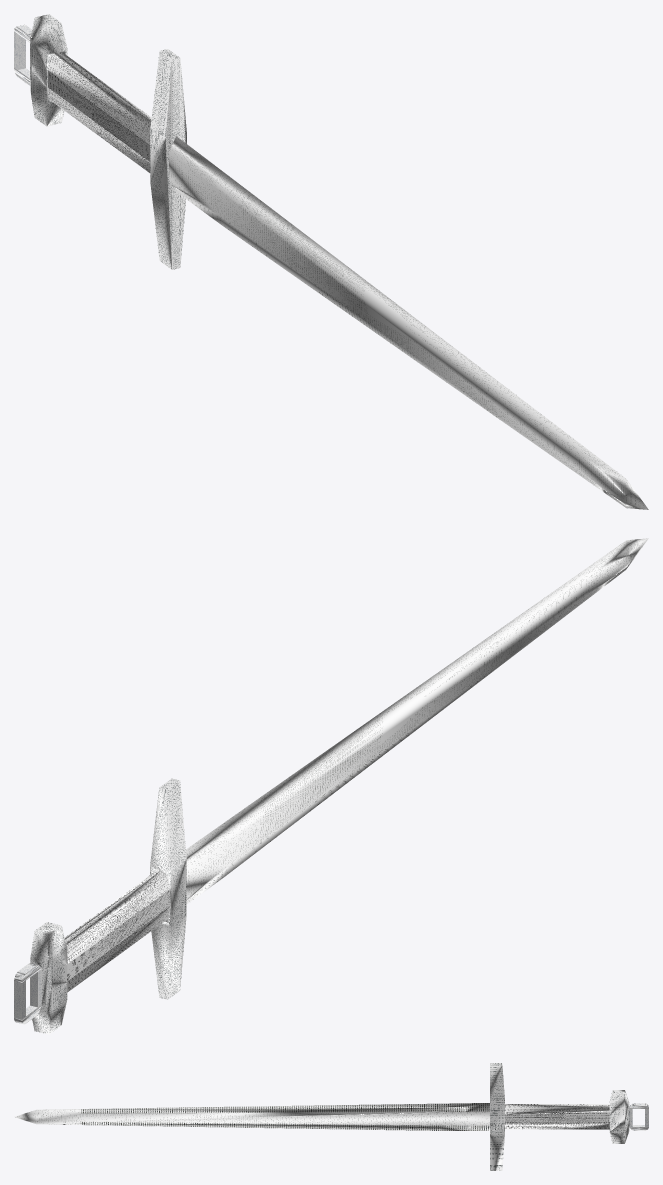
The model's file is model_align.obj.
3 renders of one model, top to bottom at view 1: azimuth 30°, elevation 25°; view 2: azimuth 150°, elevation 25°; view 3: azimuth 270°, elevation 25°, orthographic. The views are drawn at different scales.
Bounding box in the file's own units: 0.00402 × 0.0377 × 0.2052.
